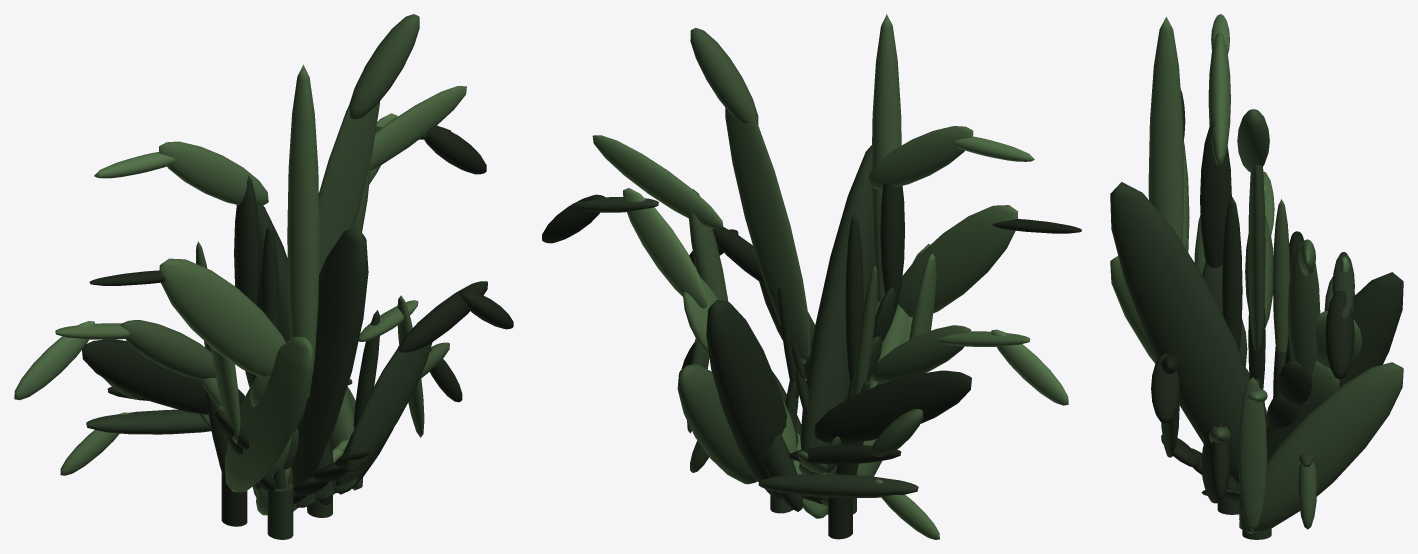
File: CMU3DRMCBushJungle1.glb
3 views of the same model, side by side, from view 1: azimuth 30°, elevation 25°; view 2: azimuth 150°, elevation 25°; view 3: azimuth 270°, elevation 25° (orthographic). The views are drawn at different scales.
Visible parts, largest first — view 1: inner source foliage 0, continuous leaf 5 curve 0, continuous leaf 0 curve 0, inner source foliage 2, continuous leaf 2 curve 0, continuous leaf 8 curve 0, continuous leaf 10 curve 0, continuous leaf 1 curve 1, continuous leaf 2 curve 1, continuous leaf 7 curve 0, continuous leaf 3 curve 1, continuous leaf 1 curve 0 (+20 smaller); view 2: continuous leaf 2 curve 0, inner source foliage 1, inner source foliage 0, continuous leaf 5 curve 0, continuous leaf 8 curve 0, continuous leaf 0 curve 0, inner source foliage 3, continuous leaf 3 curve 1, continuous leaf 4 curve 0, continuous leaf 1 curve 1, continuous leaf 9 curve 0, continuous leaf 2 curve 1 (+22 smaller); view 3: inner source foliage 0, inner source foliage 3, continuous leaf 0 curve 0, inner source foliage 1, continuous leaf 12 curve 2, continuous leaf 1 curve 0, continuous leaf 3 curve 0, continuous leaf 2 curve 0, rooted stalk 0 section 1, continuous leaf 1 curve 1, rooted stalk 2 section 1, continuous leaf 4 curve 2 (+23 smaller).
Part boxes in pixels (x1,y1,x2,y2): inner source foliage 0: (291, 226, 368, 487); continuous leaf 5 curve 0: (159, 258, 285, 376); continuous leaf 0 curve 0: (287, 64, 319, 403); inner source foliage 2: (225, 337, 313, 492); continuous leaf 2 curve 0: (319, 101, 379, 274); continuous leaf 8 curve 0: (82, 339, 244, 414); continuous leaf 10 curve 0: (346, 342, 432, 473); continuous leaf 1 curve 1: (159, 141, 268, 206); continuous leaf 2 curve 1: (349, 14, 419, 119); continuous leaf 7 curve 0: (121, 320, 215, 379); continuous leaf 3 curve 1: (370, 86, 466, 170); continuous leaf 1 curve 0: (234, 175, 259, 305); continuous leaf 2 curve 0: (725, 107, 810, 363); inner source foliage 1: (706, 300, 787, 498); inner source foliage 0: (800, 145, 873, 449); continuous leaf 5 curve 0: (898, 205, 1017, 317); continuous leaf 8 curve 0: (814, 370, 971, 444); continuous leaf 0 curve 0: (871, 14, 901, 303); inner source foliage 3: (677, 364, 757, 484); continuous leaf 3 curve 1: (592, 135, 723, 228); continuous leaf 4 curve 0: (623, 188, 706, 308); continuous leaf 1 curve 1: (868, 126, 973, 188); continuous leaf 9 curve 0: (758, 474, 918, 497); continuous leaf 2 curve 1: (690, 28, 758, 124); inner source foliage 0: (1110, 182, 1249, 483); inner source foliage 3: (1239, 362, 1403, 533); continuous leaf 0 curve 0: (1148, 17, 1184, 243); inner source foliage 1: (1239, 272, 1403, 519); continuous leaf 12 curve 2: (1238, 377, 1267, 530); continuous leaf 1 curve 0: (1200, 121, 1231, 267); continuous leaf 3 curve 0: (1287, 241, 1320, 377); continuous leaf 2 curve 0: (1248, 165, 1265, 351); rooted stalk 0 section 1: (1222, 197, 1242, 351); continuous leaf 1 curve 1: (1208, 33, 1230, 165); rooted stalk 2 section 1: (1273, 199, 1290, 352); continuous leaf 4 curve 2: (1325, 290, 1354, 378).
Bounding box in the file's own units: 1.53 × 1.42 × 0.7742.
